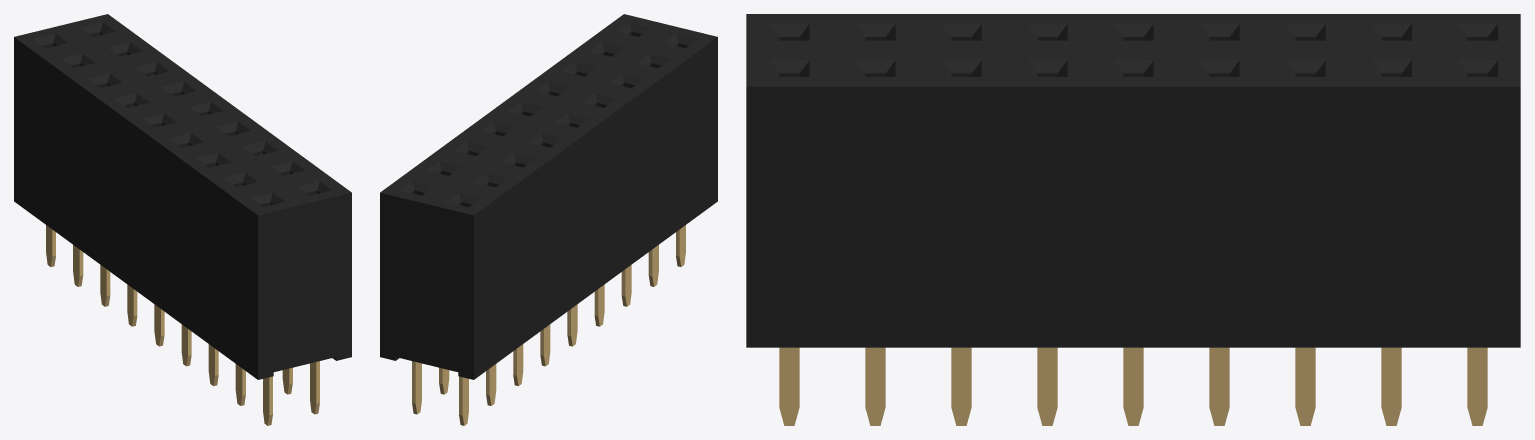
Rendered from kc-pinsocket_2x09_p2.54mm_vertical.glb.
3 renders of one model, left to right at view 1: azimuth 30°, elevation 25°; view 2: azimuth 150°, elevation 25°; view 3: azimuth 270°, elevation 25°, orthographic. The views are drawn at different scales.
Visible parts, largest first — view 1: 0_0_0_0, 0.75_0.5_0.25_0.9; view 2: 0_0_0_0, 0.75_0.5_0.25_0.9; view 3: 0_0_0_0, 0.75_0.5_0.25_0.9.
Boxes of the visible parts, <box> form: 0_0_0_0: <box>14,14,351,379</box>; 0.75_0.5_0.25_0.9: <box>46,225,319,425</box>; 0_0_0_0: <box>380,14,717,379</box>; 0.75_0.5_0.25_0.9: <box>412,225,685,425</box>; 0_0_0_0: <box>746,14,1520,347</box>; 0.75_0.5_0.25_0.9: <box>779,347,1487,425</box>.
Size of the model in its own units: 0.5079 by 1.16 by 2.29.
